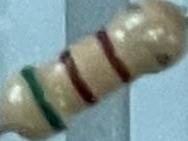Black: (57, 48, 100, 107)
Brown: (93, 26, 134, 84)
Green: (19, 64, 68, 135)
Side-Silver: (123, 3, 178, 70)
